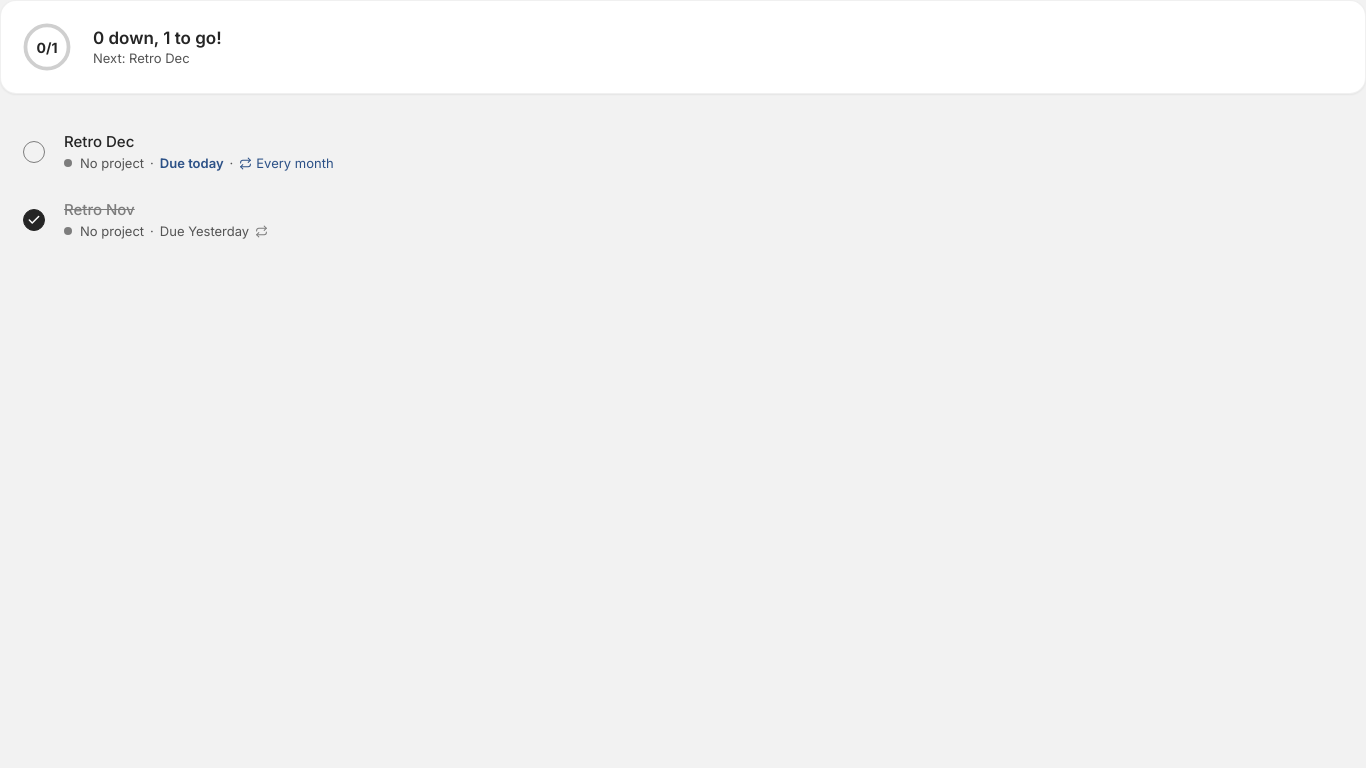
Test: Complete a task (TK-1, WF-06) › #168: unticking a done repeat whose series is open: the row goes back into it, the open row stays, Undo restores
Click the checkbox named "Reopen Retro Nov": (34, 220) left=12, top=198, right=56, bottom=242
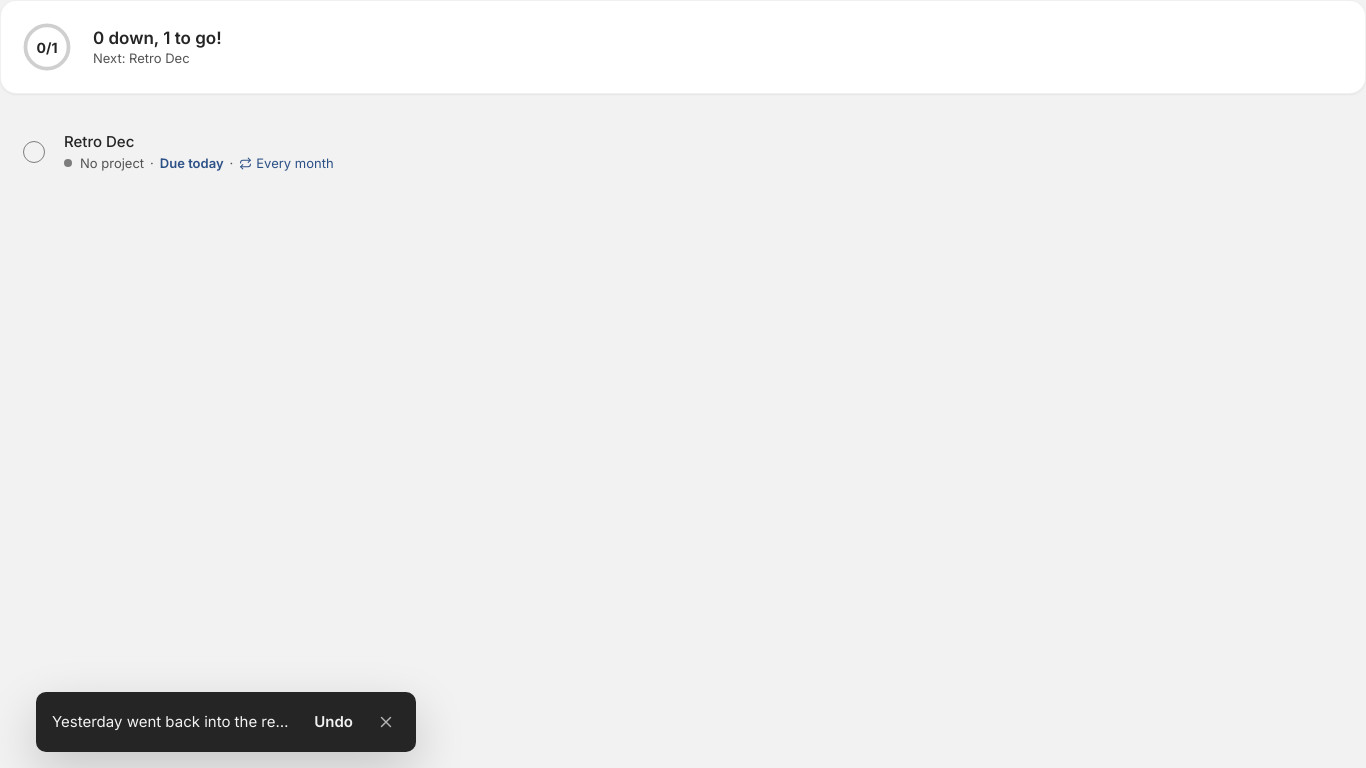
Expected: the checkbox named "Complete Retro Dec" is shown, left=12, top=130, right=56, bottom=174
Now the link "Retro Nov" is gone
Now the text "Yesterday went back into the repeat" is shown, box left=52, top=712, right=290, bottom=732
Click the button "Undo": (334, 722) left=302, top=700, right=365, bottom=744
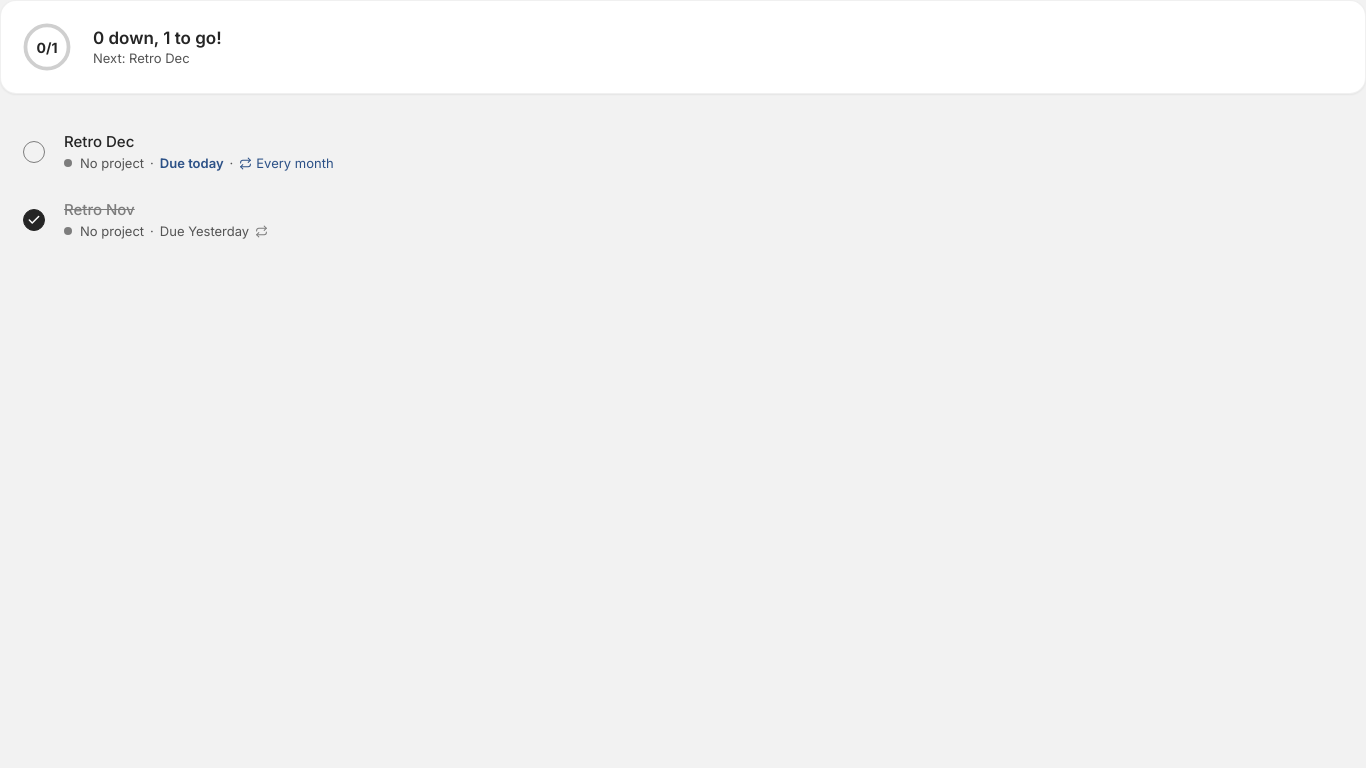
Now the checkbox named "Reopen Retro Nov" is shown, box left=12, top=198, right=56, bottom=242
